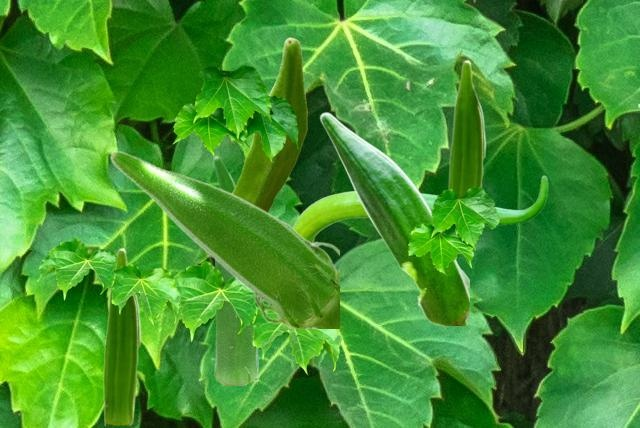okra: (109, 150, 338, 327), (319, 112, 468, 324), (293, 175, 547, 240), (232, 37, 306, 212), (213, 155, 257, 384), (103, 247, 140, 424), (448, 59, 485, 196)
